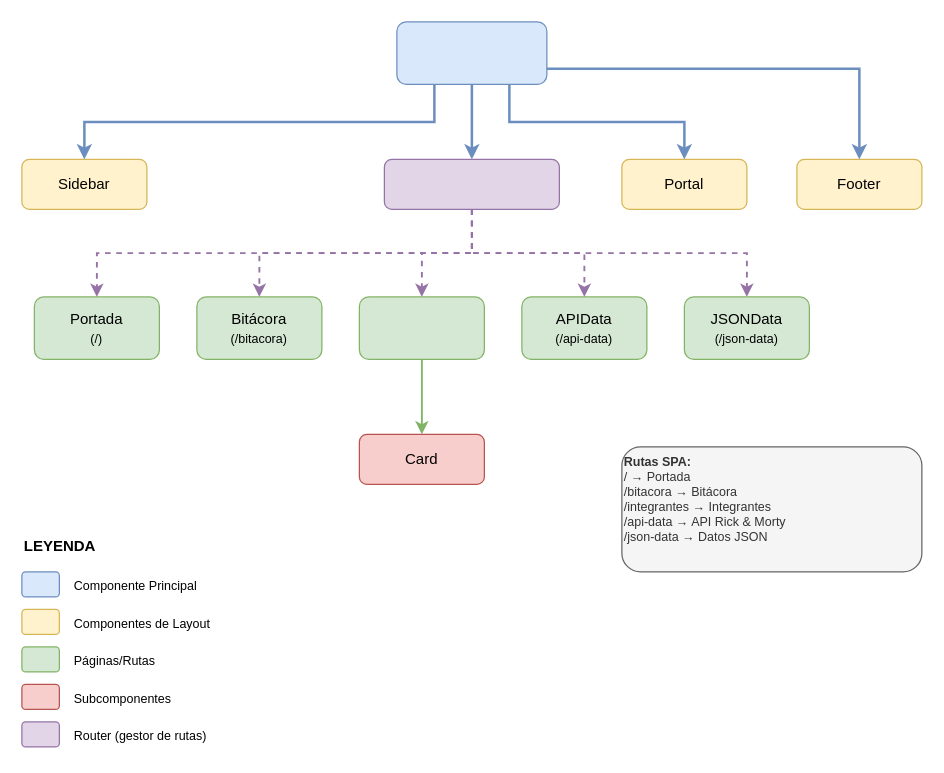
This 944x773 diagram has some shape labels left out. Each missing label, with the box of its shape:
App.jsx: (396, 21, 547, 84)
Integrantes (/integrantes): (358, 296, 484, 359)
React Router: (383, 158, 559, 209)
